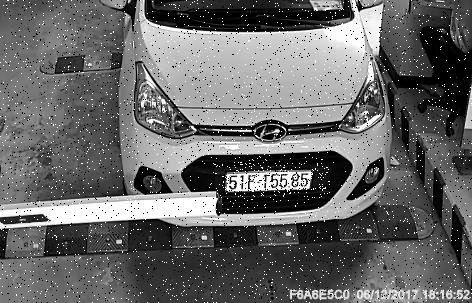License-plate: (217, 163, 332, 199)
